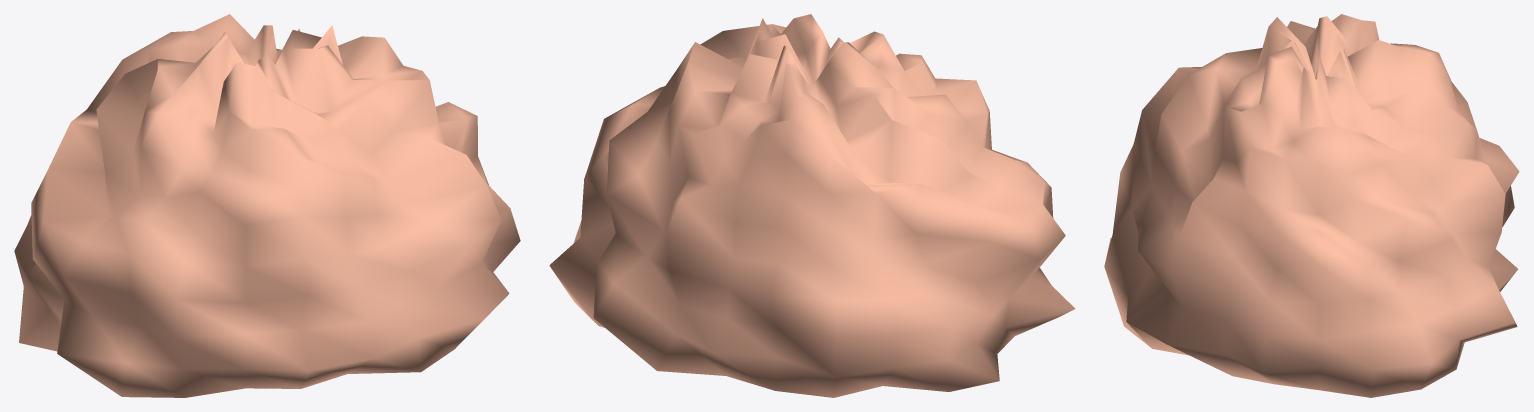
File: coral_boulder.glb
The picture shows the model from 3 angles, left to right: view 1: azimuth 30°, elevation 25°; view 2: azimuth 150°, elevation 25°; view 3: azimuth 270°, elevation 25°; orthographic projection. The views are drawn at different scales.
Parts seen in each view (by area): view 1: intertidal-coral-boulder; view 2: intertidal-coral-boulder; view 3: intertidal-coral-boulder.
Part boxes in pixels (x1,y1,x2,y2): intertidal-coral-boulder: (14,14,520,397); intertidal-coral-boulder: (549,14,1075,397); intertidal-coral-boulder: (1104,14,1519,397).
Size of the model in its own units: 1.25 by 0.732 by 1.02.
